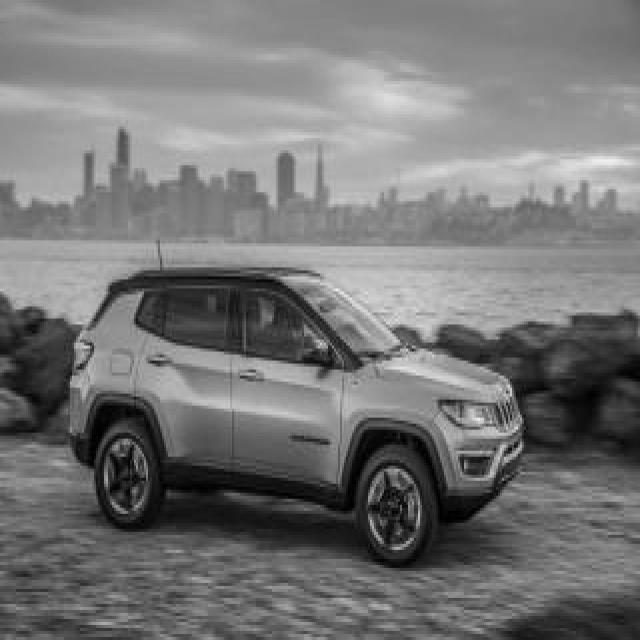Car: (70, 268, 523, 564)
